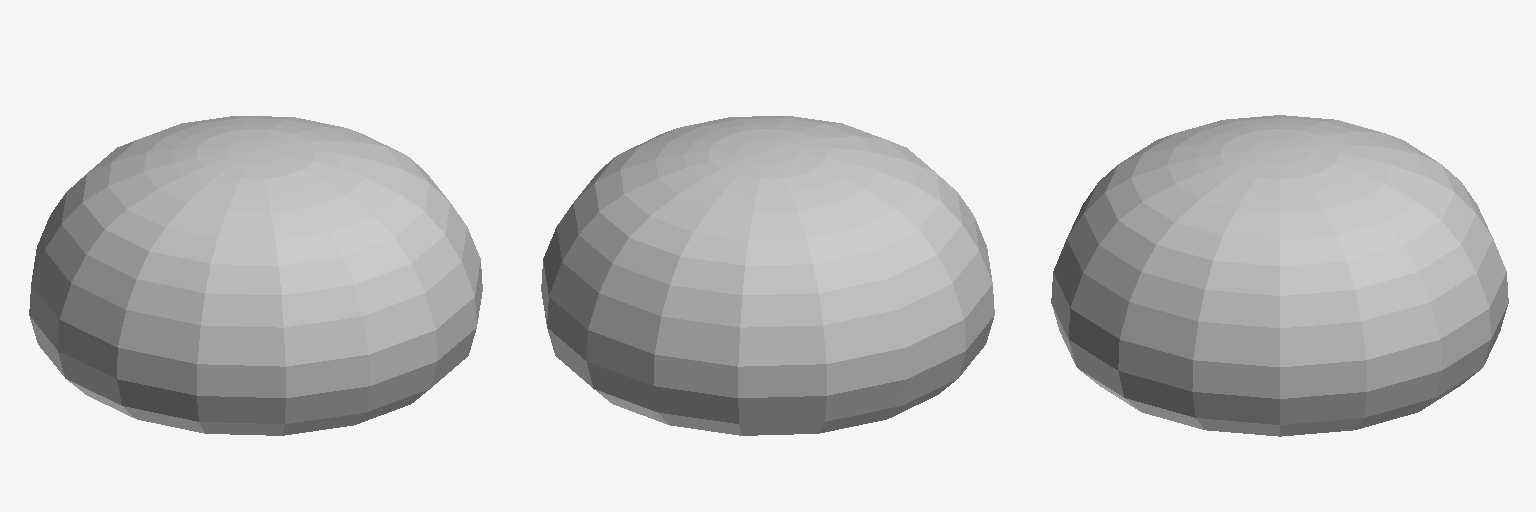
The model's file is Boss_Nuke_Explosion_Pilz_01.obj.
3 renders of one model, left to right at view 1: azimuth 30°, elevation 25°; view 2: azimuth 150°, elevation 25°; view 3: azimuth 270°, elevation 25°, orthographic.
Parts seen in each view (by area): view 1: Pilz; view 2: Pilz; view 3: Pilz.
Part boxes in pixels (x1,y1,x2,y2): Pilz: (29, 116, 482, 435); Pilz: (541, 116, 994, 435); Pilz: (1051, 115, 1508, 436).
Bounding box in the file's own units: 2.8 × 1.43 × 2.8.